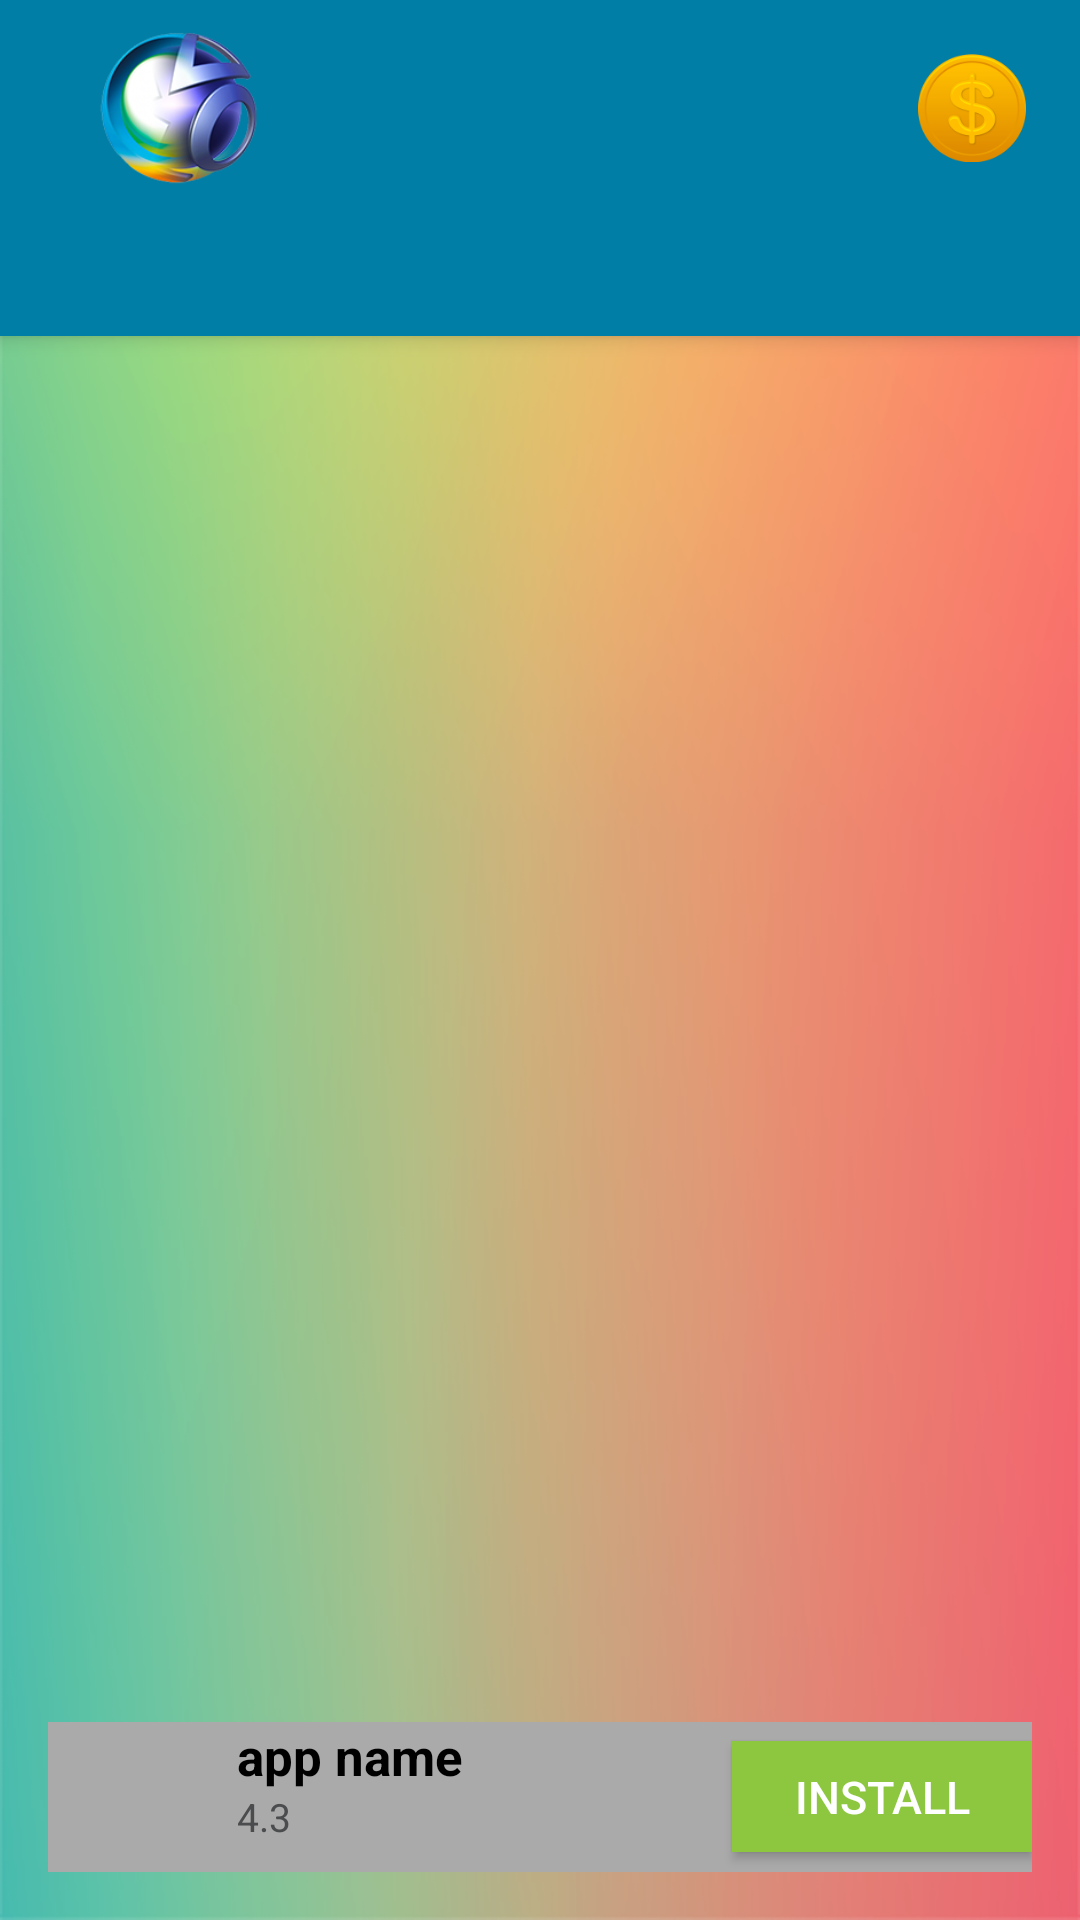

Where icons sit on this 1080 x 1920 app screen, as bbox=[x1, y1, x2, y2]:
coin: bbox=[918, 54, 1026, 162]
